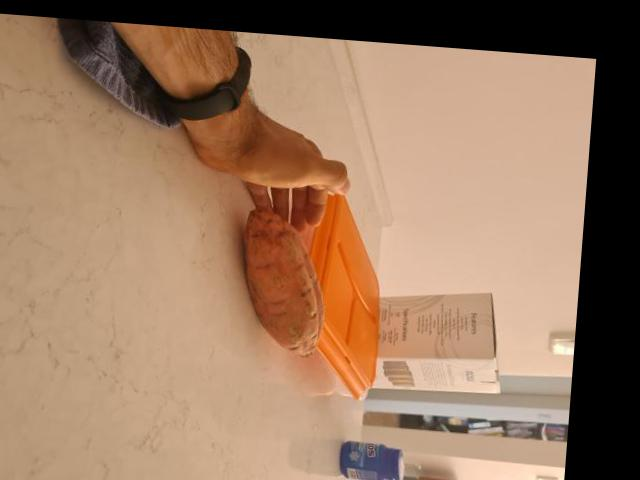sweet_potato: (236, 207, 327, 364)
